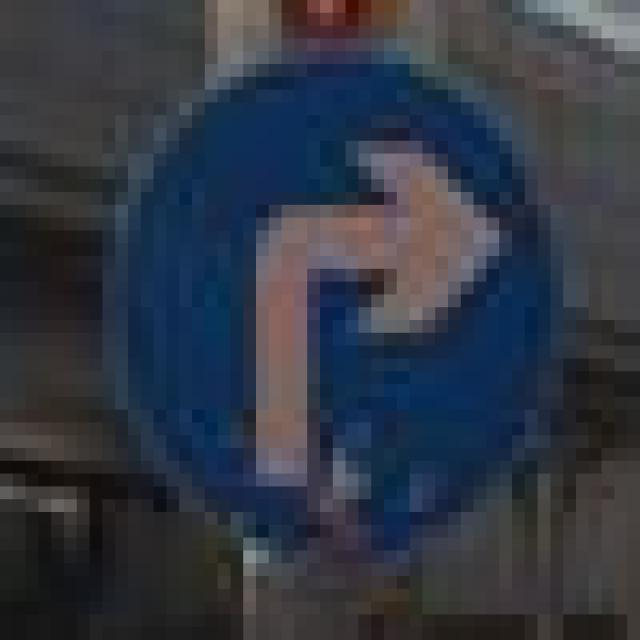TURN_RIGHT: (90, 39, 550, 538)
